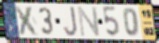0: (122, 7, 141, 38)
3: (38, 6, 54, 36)
5: (101, 6, 121, 39)
J: (63, 5, 79, 37)
N: (77, 6, 102, 38)
X: (13, 6, 41, 37)
